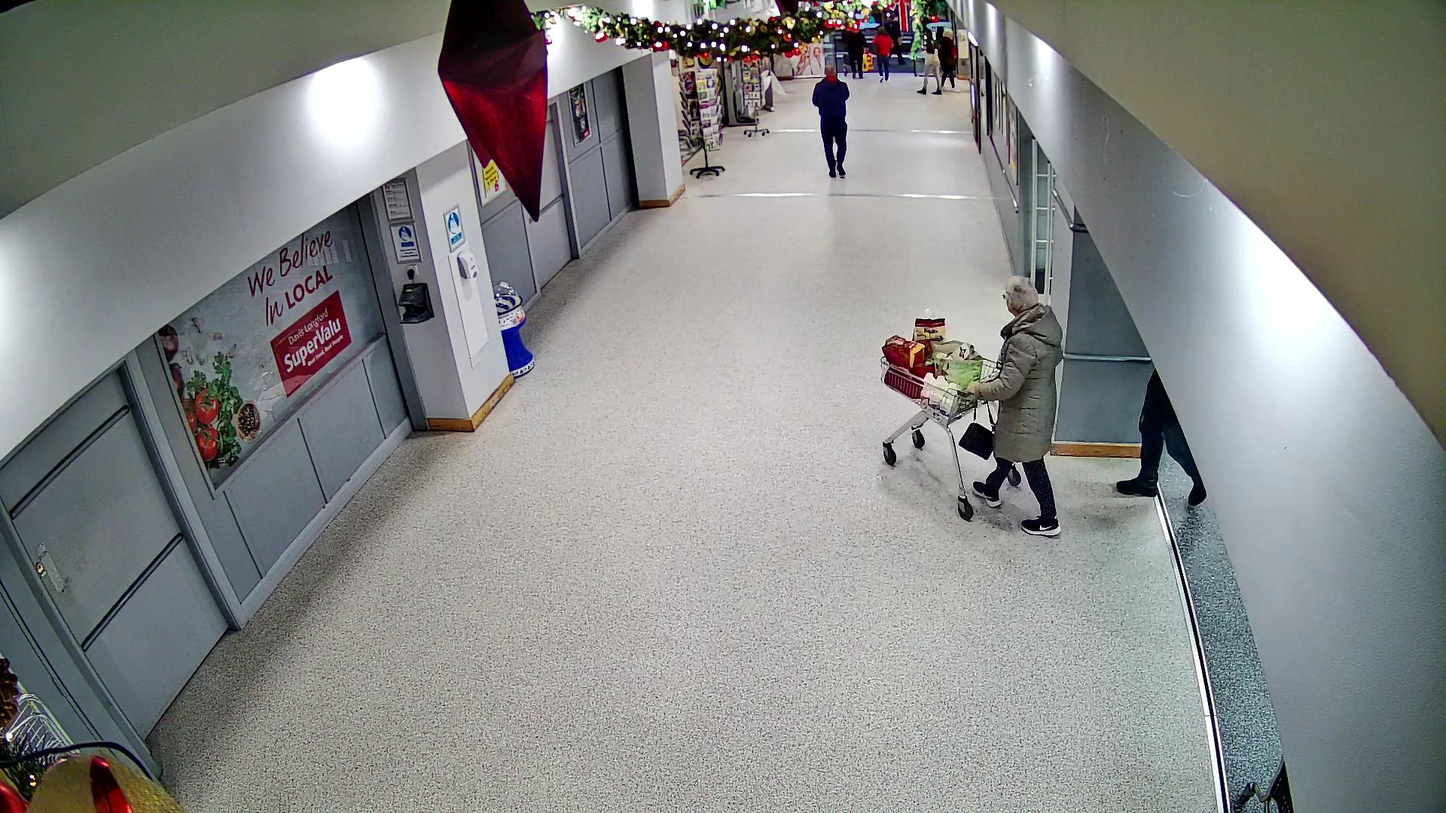backpack-or-handbag: (959, 422, 996, 460)
filled-trolly: (879, 318, 1021, 520)
person: (967, 276, 1064, 537)
person-with-basket-trolly-and-backpack-handbag: (879, 276, 1063, 536)
